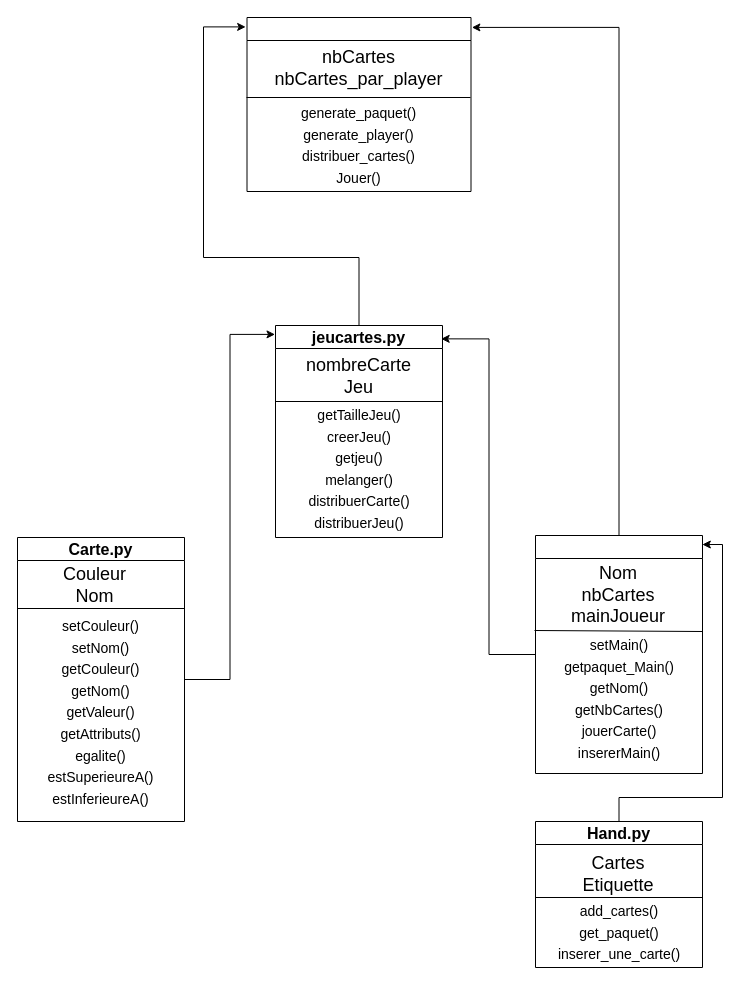
The diagram is 748 pixels wide and 986 high, and some of its shapes have lost their labels. The box of each missing label's shape, as (x1, y1, x2, y2) in pixels:
Bataille.py: (246, 16, 471, 192)
Player.py: (534, 534, 702, 774)
